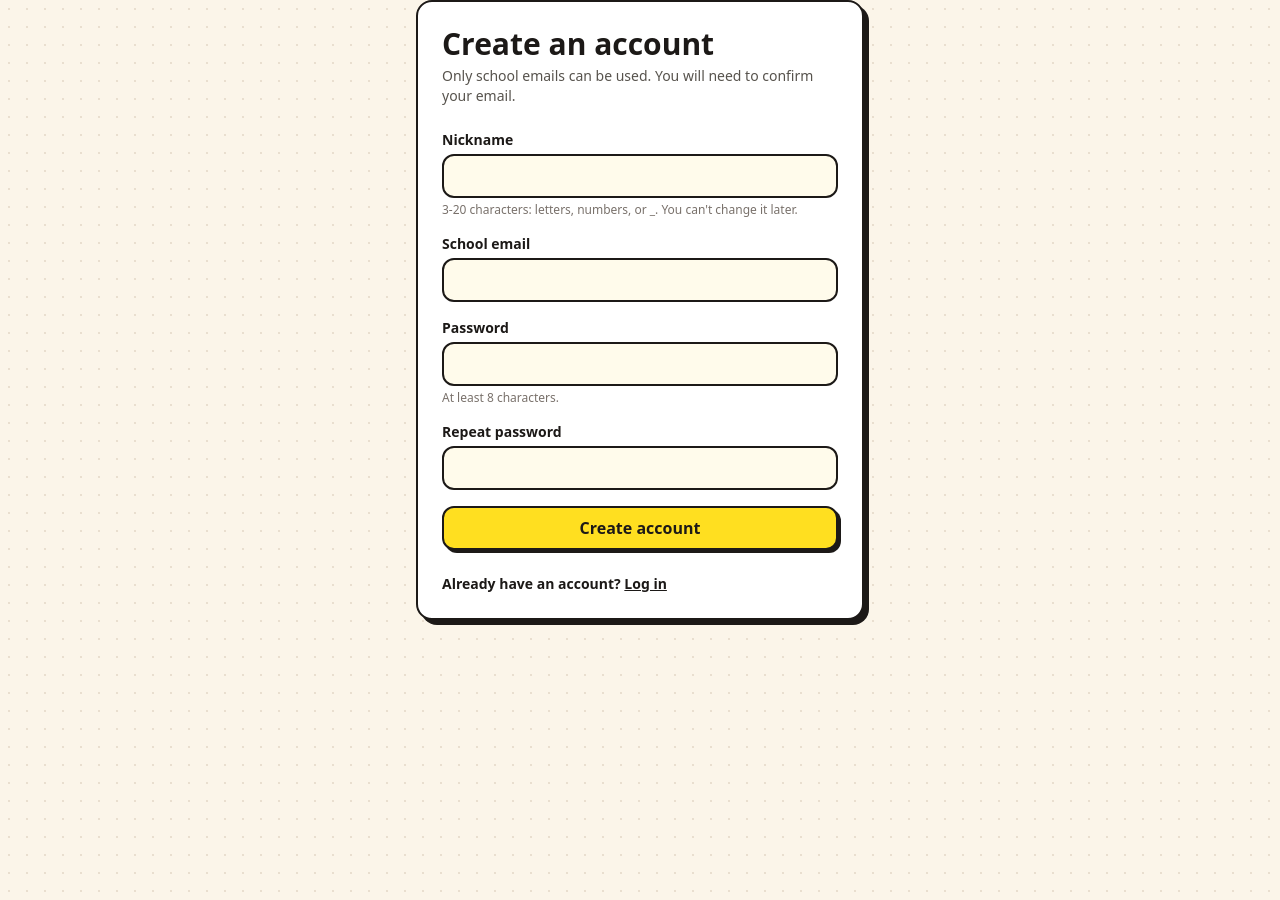
it: RegisterPage › explains when the email could not be sent
Type "alice" into the field labelled "Nickname". click: point(640, 176)
box: [442,154,838,198]
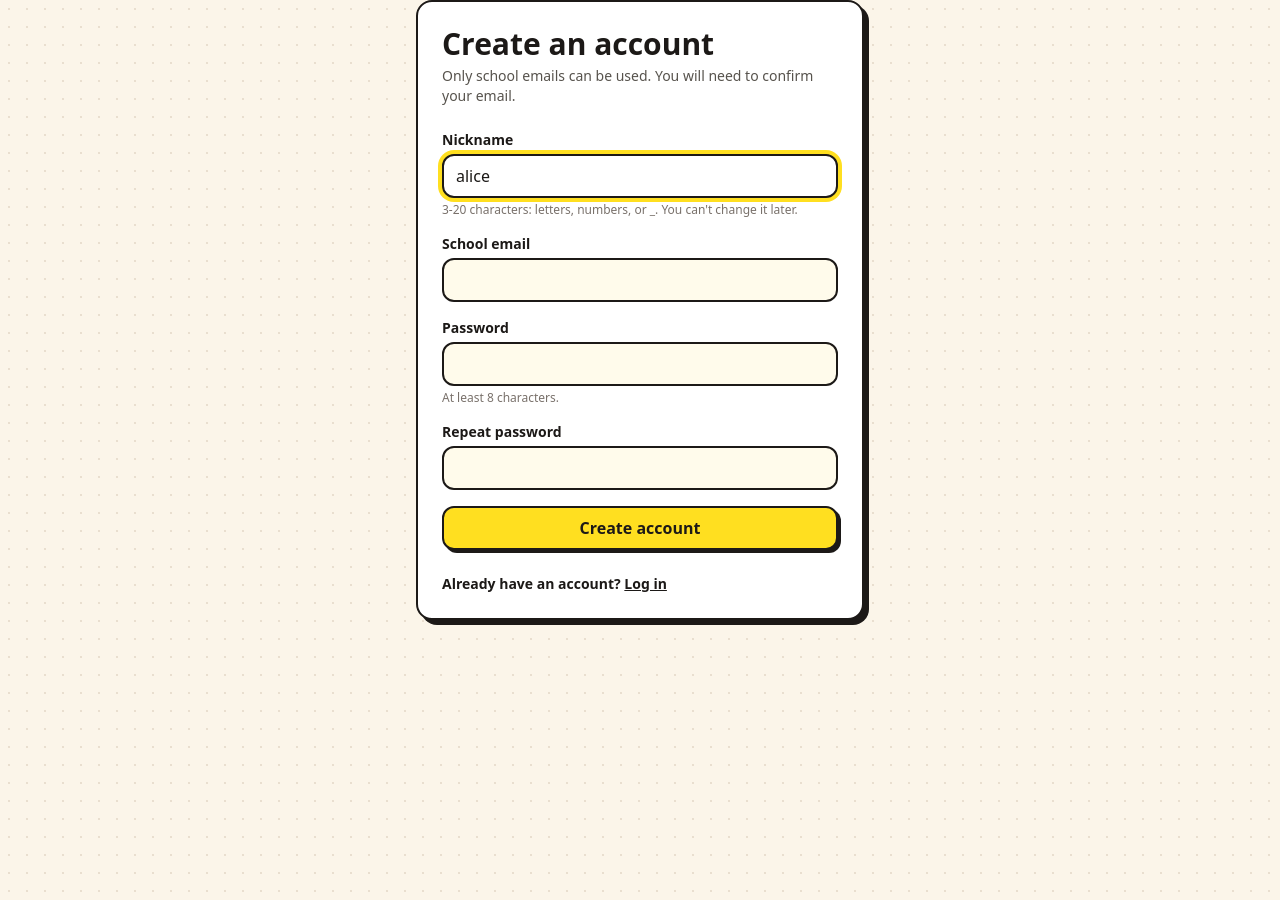
Type "alice@example.edu" into the field labelled "School email". click: point(640, 280)
box: [442,258,838,302]
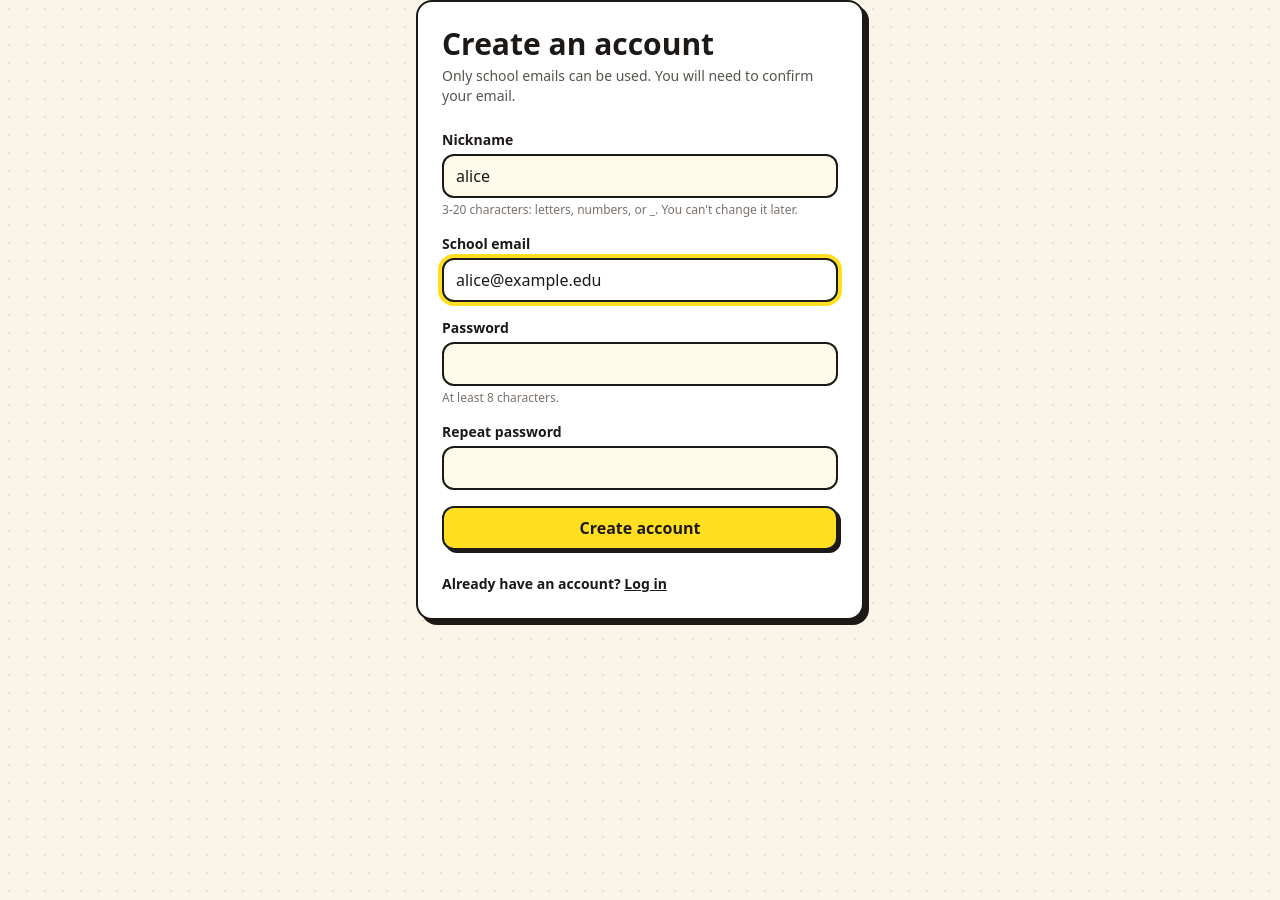
Type "password1" into the password field labelled "Password". click: point(640, 364)
box: [442,342,838,386]
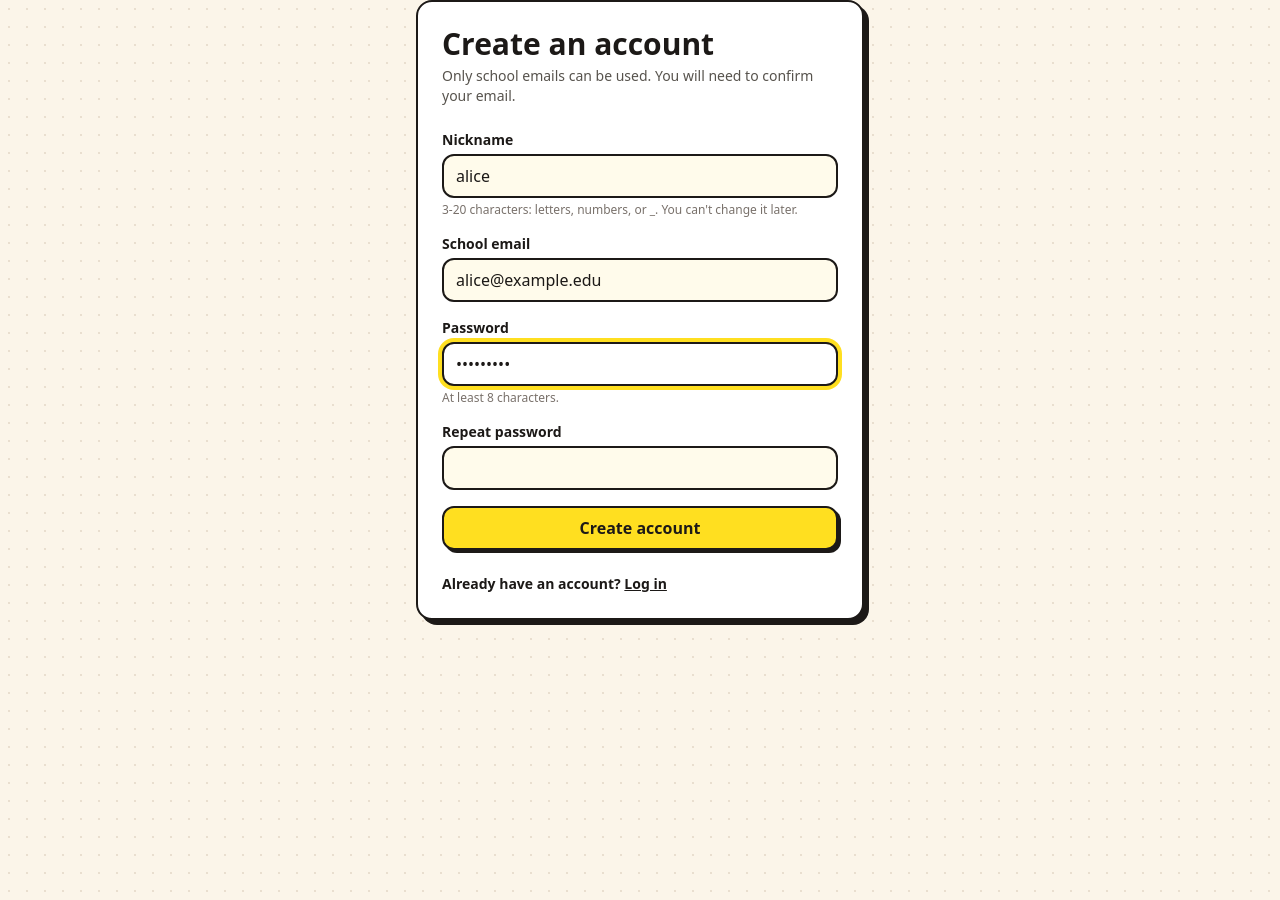
Type "password1" into the password field labelled "Repeat password". click: point(640, 468)
box: [442,446,838,490]
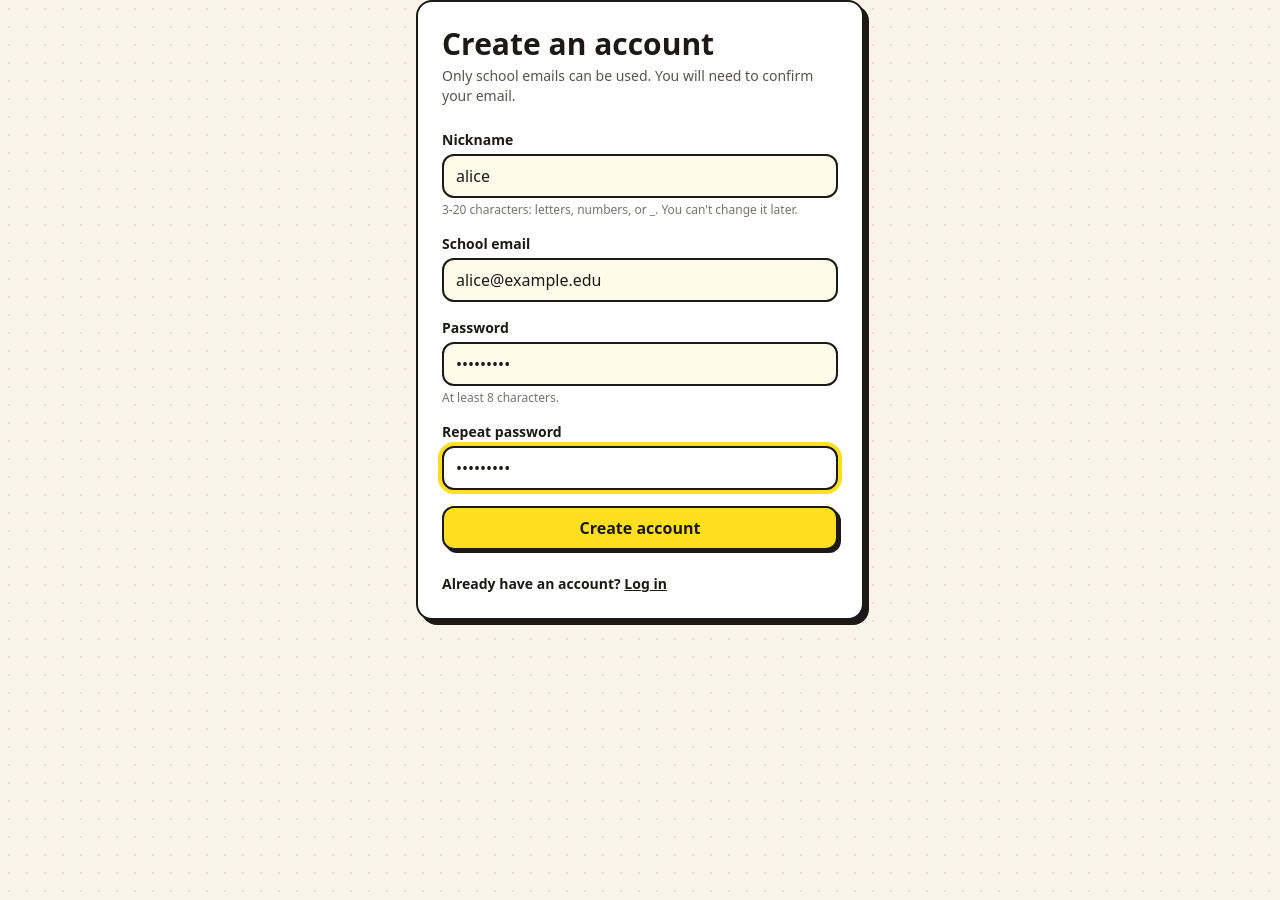
Click the button "Create account". click: point(640, 528)
box: [442,506,838,550]
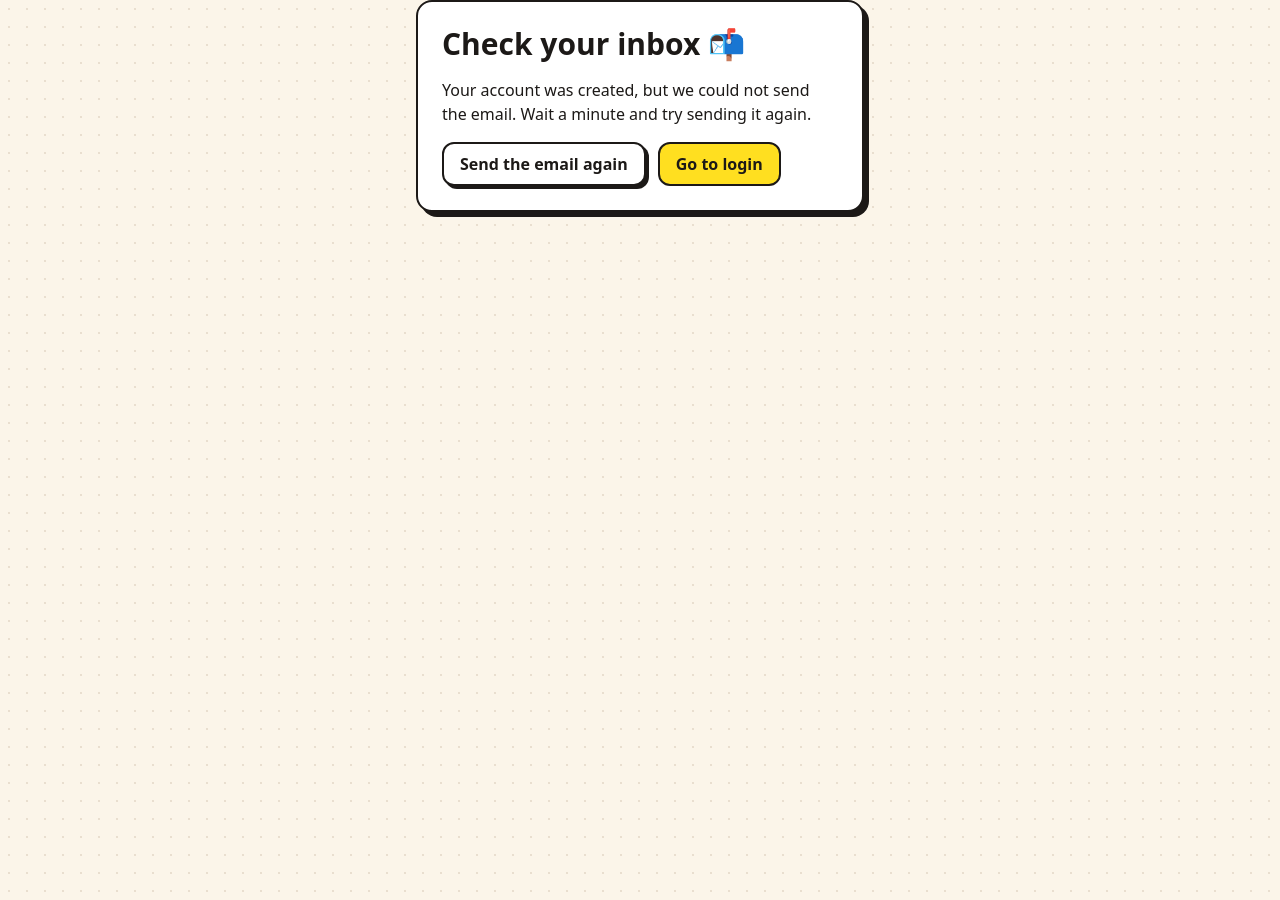
Expected: the text "we could not send the email" is shown, [442,79,811,125]
